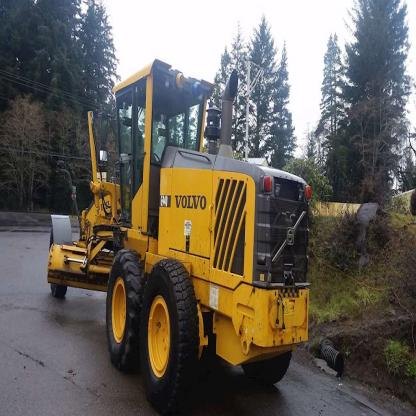bull_dozer/loader/grader: (37, 47, 335, 412)
